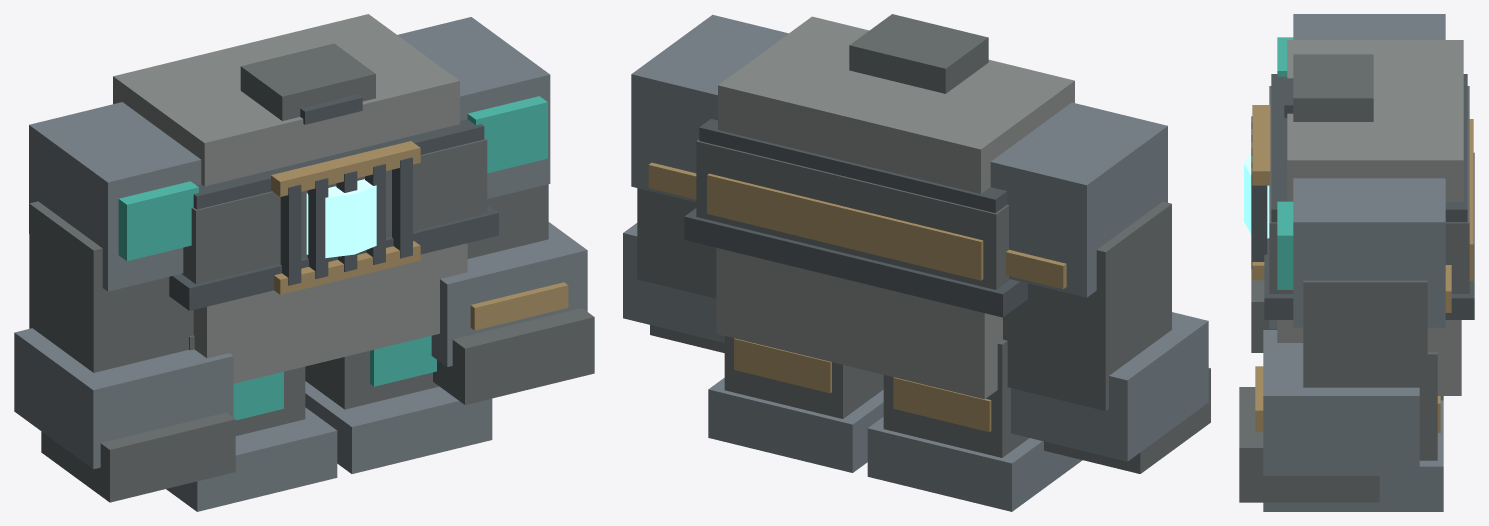
Rendered from unit-golem.glb.
The picture shows the model from 3 angles, left to right: view 1: azimuth 30°, elevation 25°; view 2: azimuth 150°, elevation 25°; view 3: azimuth 270°, elevation 25°; orthographic projection. The views are drawn at different scales.
Parts seen in each view (by area): view 1: Body, Weapon, LegR, LegL; view 2: Body, LegL, LegR, Weapon; view 3: Body, Weapon, LegR.
Part boxes in pixels (x1=…): Body: x1=14, y1=14, x2=550, y2=502; Weapon: x1=431, y1=184, x2=594, y2=404; LegR: x1=305, y1=335, x2=492, y2=473; LegL: x1=166, y1=335, x2=337, y2=511; Body: x1=631, y1=14, x2=1210, y2=473; LegL: x1=867, y1=339, x2=1082, y2=511; LegR: x1=708, y1=336, x2=883, y2=472; Weapon: x1=623, y1=188, x2=724, y2=352; Body: x1=1244, y1=14, x2=1474, y2=395; Weapon: x1=1239, y1=280, x2=1427, y2=502; LegR: x1=1263, y1=352, x2=1443, y2=511.
Size of the model in its own units: 2.73 by 2.01 by 1.17.
